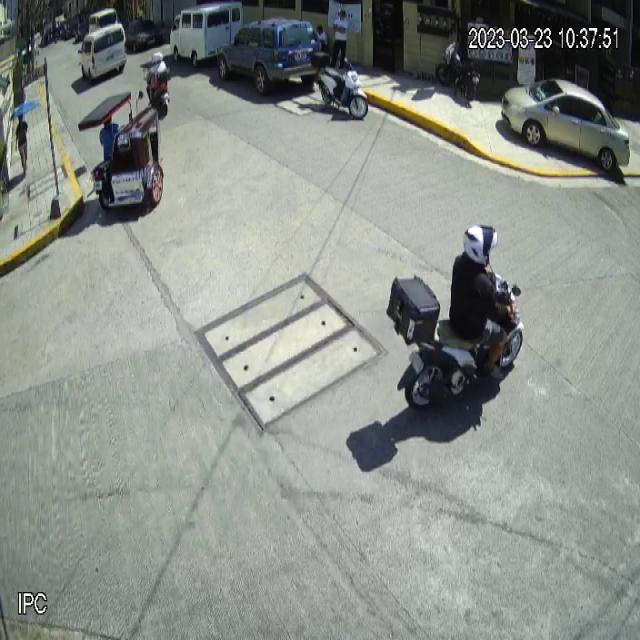Car: (500, 76, 632, 175), (216, 17, 322, 98)
Motorcycle: (384, 270, 525, 412), (311, 49, 371, 125)
Tricycle: (76, 89, 165, 213)
Van: (169, 2, 244, 68)
